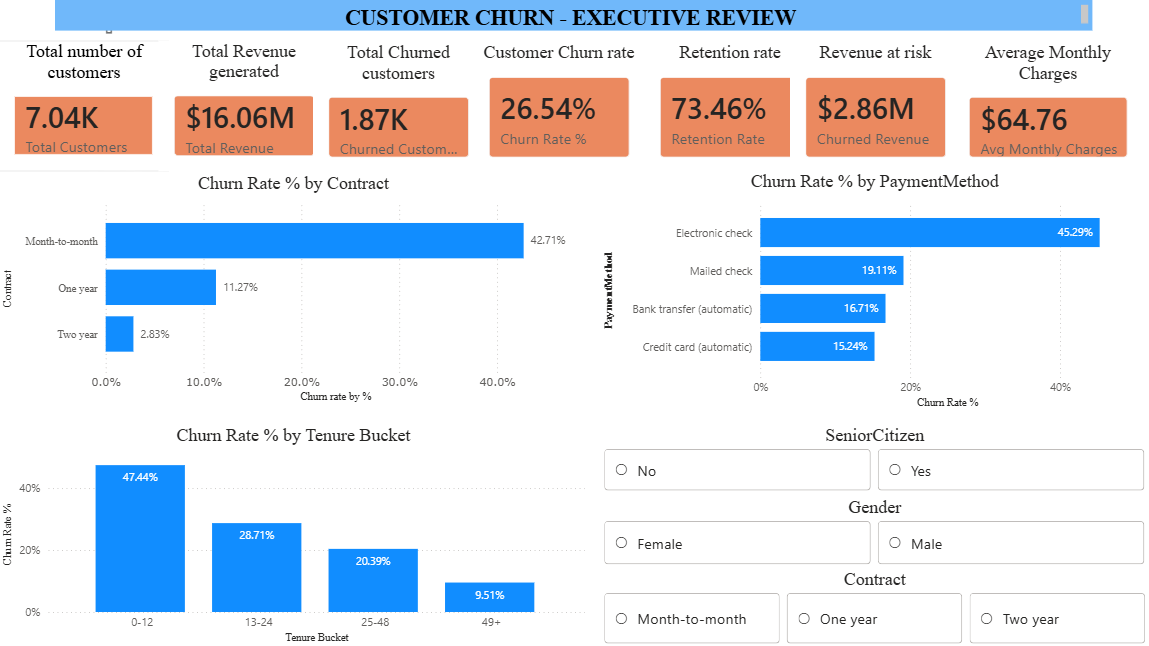

What the dashboard file says about the page in this screenshot:
{"tool":"powerbi","page":{"name":"Cards, Charts & Slicers","canvas":[1280,720],"ordinal":0},"visuals":[{"type":"clusteredBarChart","fields":{"Category":["Customer.Contract"],"Y":["Customer.Churn Rate %"]},"box":[0,191.7,656.7,260],"z":0},{"type":"clusteredBarChart","fields":{"Category":["Customer.PaymentMethod"],"Y":["Customer.Churn Rate %"]},"box":[668.3,190,611.7,268.3],"z":1000},{"type":"columnChart","fields":{"Category":["Customer.Tenure Bucket"],"Y":["Customer.Churn Rate %"]},"box":[0,471.7,656.7,248.3],"z":2000},{"type":"cardVisual","title":"Total number of customers","fields":{"Data":["Customer.Total Customers"]},"box":[0,45,190,145],"z":3000},{"type":"cardVisual","title":"Total Revenue generated","fields":{"Data":["Customer.Total Revenue"]},"box":[178.3,45,190,145],"z":4000},{"type":"cardVisual","title":"Total Churned customers","fields":{"Data":["Customer.Churned Customers"]},"box":[350,46.7,190,145],"z":5000},{"type":"cardVisual","title":"Customer Churn rate","fields":{"Data":["Customer.Churn Rate %"]},"box":[528.3,46.7,190,145],"z":6000},{"type":"textbox","box":[63.1,0,1152.9,34],"z":7000},{"type":"cardVisual","title":"Retention rate","fields":{"Data":["Customer.Retention Rate"]},"box":[718.3,46.7,190,145],"z":8000},{"type":"cardVisual","title":"Revenue at risk","fields":{"Data":["Customer.Churned Revenue"]},"box":[880,46.7,190,145],"z":9000},{"type":"cardVisual","title":"Average Monthly Charges","fields":{"Data":["Customer.Avg Monthly Charges"]},"box":[1061.7,46.7,210,145],"z":10000},{"type":"advancedSlicerVisual","fields":{"Values":["Customer.SeniorCitizen"]},"box":[668.3,471.7,611.7,78.3],"z":11000},{"type":"advancedSlicerVisual","title":"Gender","fields":{"Values":["Customer.gender"]},"box":[668.3,551.7,611.7,80],"z":12000},{"type":"advancedSlicerVisual","fields":{"Values":["Customer.Contract"]},"box":[668.3,631.7,611.7,88.3],"z":13000}]}

Visuals, with their boxes in screenshot pixels (x1, y1, x2, y2), scaled from the page's 1280x720 canvas onto the 1149x646 screenshot:
clusteredBarChart - Customer.Contract x Customer.Churn Rate %: 0/172/589/405
clusteredBarChart - Customer.PaymentMethod x Customer.Churn Rate %: 600/170/1148/411
columnChart - Customer.Tenure Bucket x Customer.Churn Rate %: 0/423/589/645
"Total number of customers" cardVisual: 0/40/171/170
"Total Revenue generated" cardVisual: 160/40/331/170
"Total Churned customers" cardVisual: 314/42/485/172
"Customer Churn rate" cardVisual: 474/42/645/172
textbox: 57/0/1092/31
"Retention rate" cardVisual: 645/42/815/172
"Revenue at risk" cardVisual: 790/42/960/172
"Average Monthly Charges" cardVisual: 953/42/1142/172
advancedSlicerVisual - Customer.SeniorCitizen: 600/423/1148/493
"Gender" advancedSlicerVisual: 600/495/1148/567
advancedSlicerVisual - Customer.Contract: 600/567/1148/645
